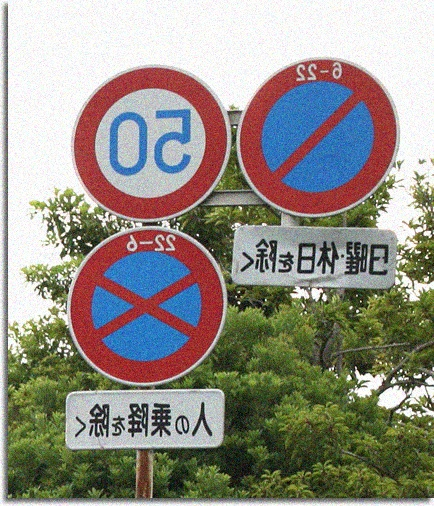Prohibition_sign: (47, 229, 275, 404), (232, 51, 413, 218)
